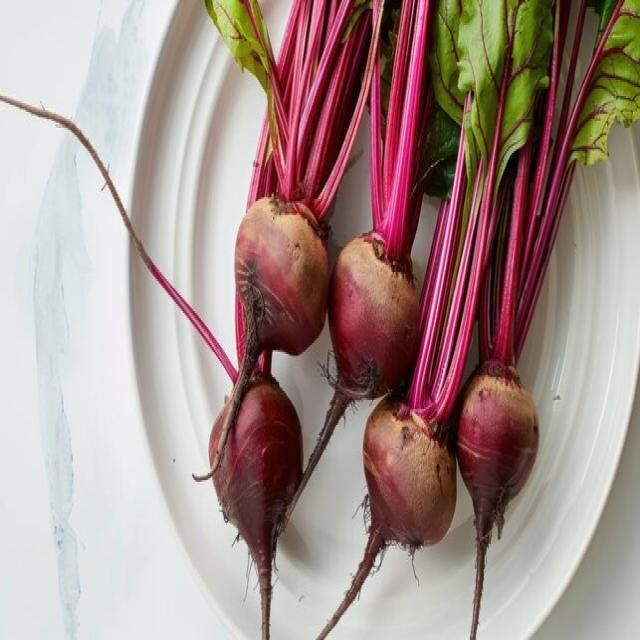Beetroot: (209, 375, 308, 576), (236, 164, 323, 382), (328, 224, 434, 400), (364, 396, 462, 569), (459, 359, 543, 523)
